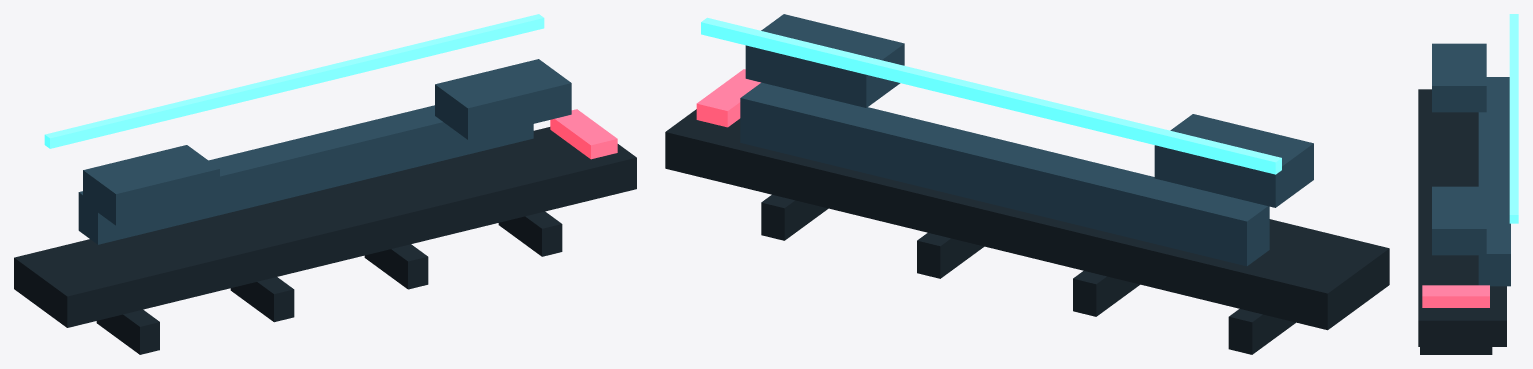
File: wall-machinery-kit.glb
3 renders of one model, left to right at view 1: azimuth 30°, elevation 25°; view 2: azimuth 150°, elevation 25°; view 3: azimuth 270°, elevation 25°, orthographic. The views are drawn at different scales.
Visible parts, largest first — view 1: machinery-backplate, raised-service-panel, cyan-diagnostic-strip, vent-bank-left, vent-bank-right, red-lockout-strip, lower-conduit-2, lower-conduit-4, lower-conduit-3, lower-conduit-1; view 2: machinery-backplate, raised-service-panel, cyan-diagnostic-strip, vent-bank-left, vent-bank-right, lower-conduit-1, lower-conduit-4, lower-conduit-3, lower-conduit-2, red-lockout-strip; view 3: machinery-backplate, raised-service-panel, vent-bank-left, vent-bank-right, cyan-diagnostic-strip, red-lockout-strip, lower-conduit-4.
Part boxes in pixels (x1=…): machinery-backplate: x1=14, y1=127, x2=636, y2=327; raised-service-panel: x1=78, y1=105, x2=533, y2=244; cyan-diagnostic-strip: x1=44, y1=14, x2=544, y2=148; vent-bank-left: x1=83, y1=145, x2=219, y2=225; vent-bank-right: x1=435, y1=59, x2=571, y2=139; red-lockout-strip: x1=550, y1=109, x2=617, y2=159; lower-conduit-2: x1=230, y1=277, x2=294, y2=322; lower-conduit-4: x1=498, y1=211, x2=562, y2=256; lower-conduit-3: x1=364, y1=244, x2=428, y2=289; lower-conduit-1: x1=96, y1=309, x2=159, y2=354; machinery-backplate: x1=665, y1=109, x2=1389, y2=330; raised-service-panel: x1=740, y1=82, x2=1269, y2=266; cyan-diagnostic-strip: x1=701, y1=17, x2=1281, y2=174; vent-bank-left: x1=1154, y1=114, x2=1313, y2=207; vent-bank-right: x1=745, y1=14, x2=904, y2=107; lower-conduit-1: x1=1228, y1=309, x2=1295, y2=354; lower-conduit-4: x1=761, y1=194, x2=828, y2=240; lower-conduit-3: x1=917, y1=233, x2=984, y2=278; lower-conduit-2: x1=1073, y1=271, x2=1139, y2=316; red-lockout-strip: x1=696, y1=69, x2=760, y2=127; machinery-backplate: x1=1418, y1=89, x2=1506, y2=346; raised-service-panel: x1=1478, y1=77, x2=1510, y2=286; vent-bank-left: x1=1432, y1=43, x2=1486, y2=112; vent-bank-right: x1=1432, y1=186, x2=1486, y2=255; cyan-diagnostic-strip: x1=1509, y1=14, x2=1518, y2=223; red-lockout-strip: x1=1422, y1=285, x2=1489, y2=307; lower-conduit-4: x1=1420, y1=347, x2=1492, y2=354.
Size of the model in its own units: 3.4 by 1.06 by 0.6225.
